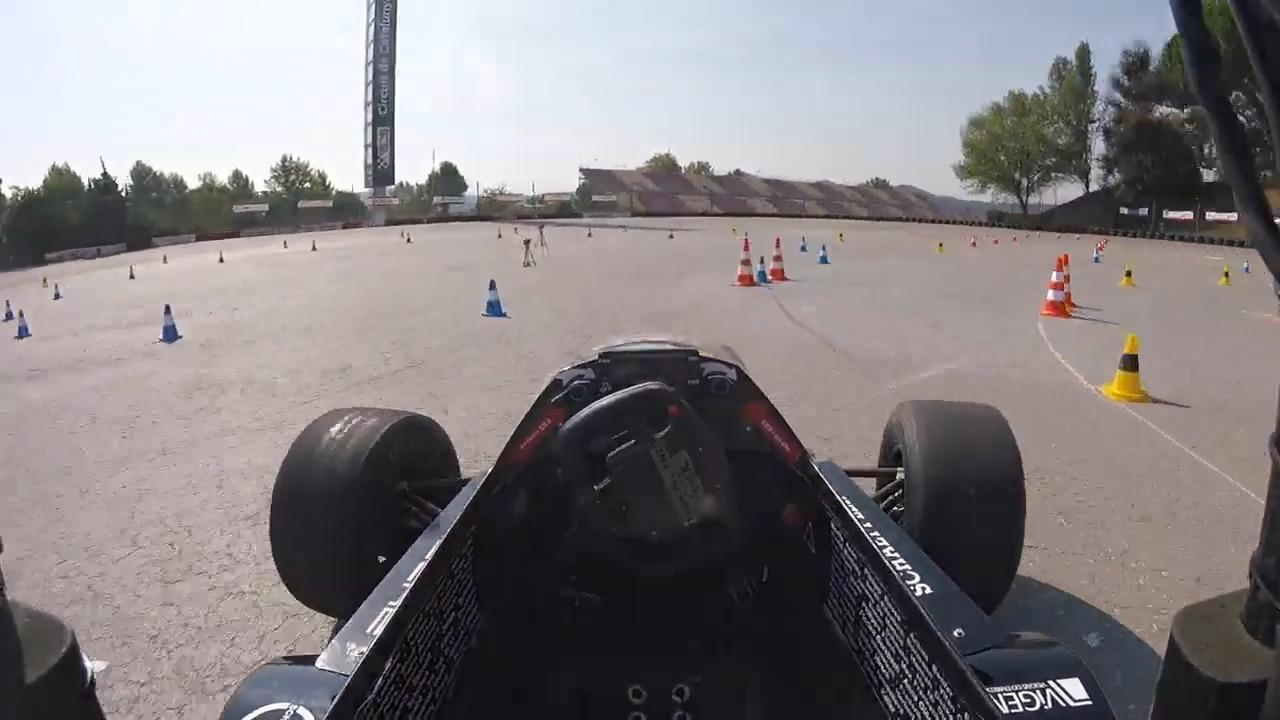blue_cone: (159, 305, 187, 346), (482, 279, 509, 316), (14, 309, 34, 342), (755, 255, 770, 287), (3, 301, 17, 324), (51, 283, 64, 303), (818, 245, 829, 265), (798, 235, 809, 253), (127, 266, 136, 281), (310, 240, 320, 253), (1093, 249, 1101, 265), (216, 250, 225, 264), (1242, 261, 1251, 274), (668, 226, 675, 241)
large_orange_cone: (1037, 261, 1071, 316), (1057, 254, 1080, 313), (732, 236, 755, 288), (770, 239, 788, 280)
orange_cone: (969, 234, 978, 248), (991, 236, 999, 246), (1098, 246, 1103, 257)
yellow_cone: (1101, 334, 1154, 403), (1118, 265, 1137, 289), (1217, 267, 1234, 288), (933, 240, 945, 254), (730, 225, 739, 239), (42, 274, 50, 289), (836, 232, 845, 243), (162, 254, 170, 266)
